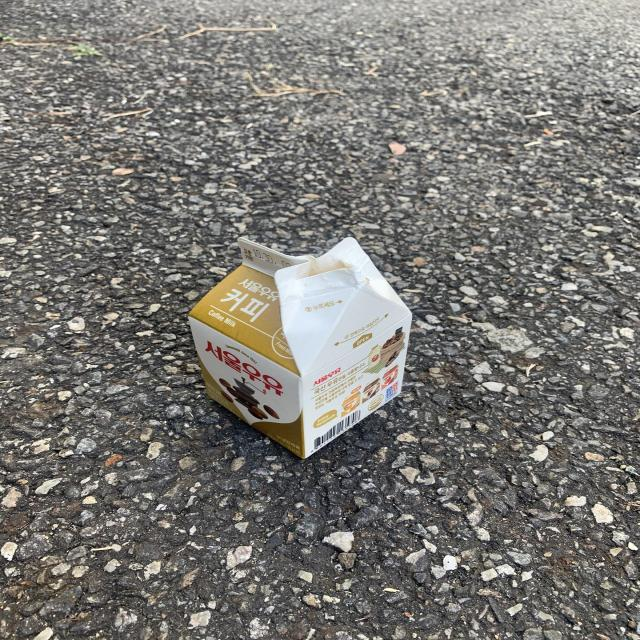paperpack: (189, 237, 412, 458)
